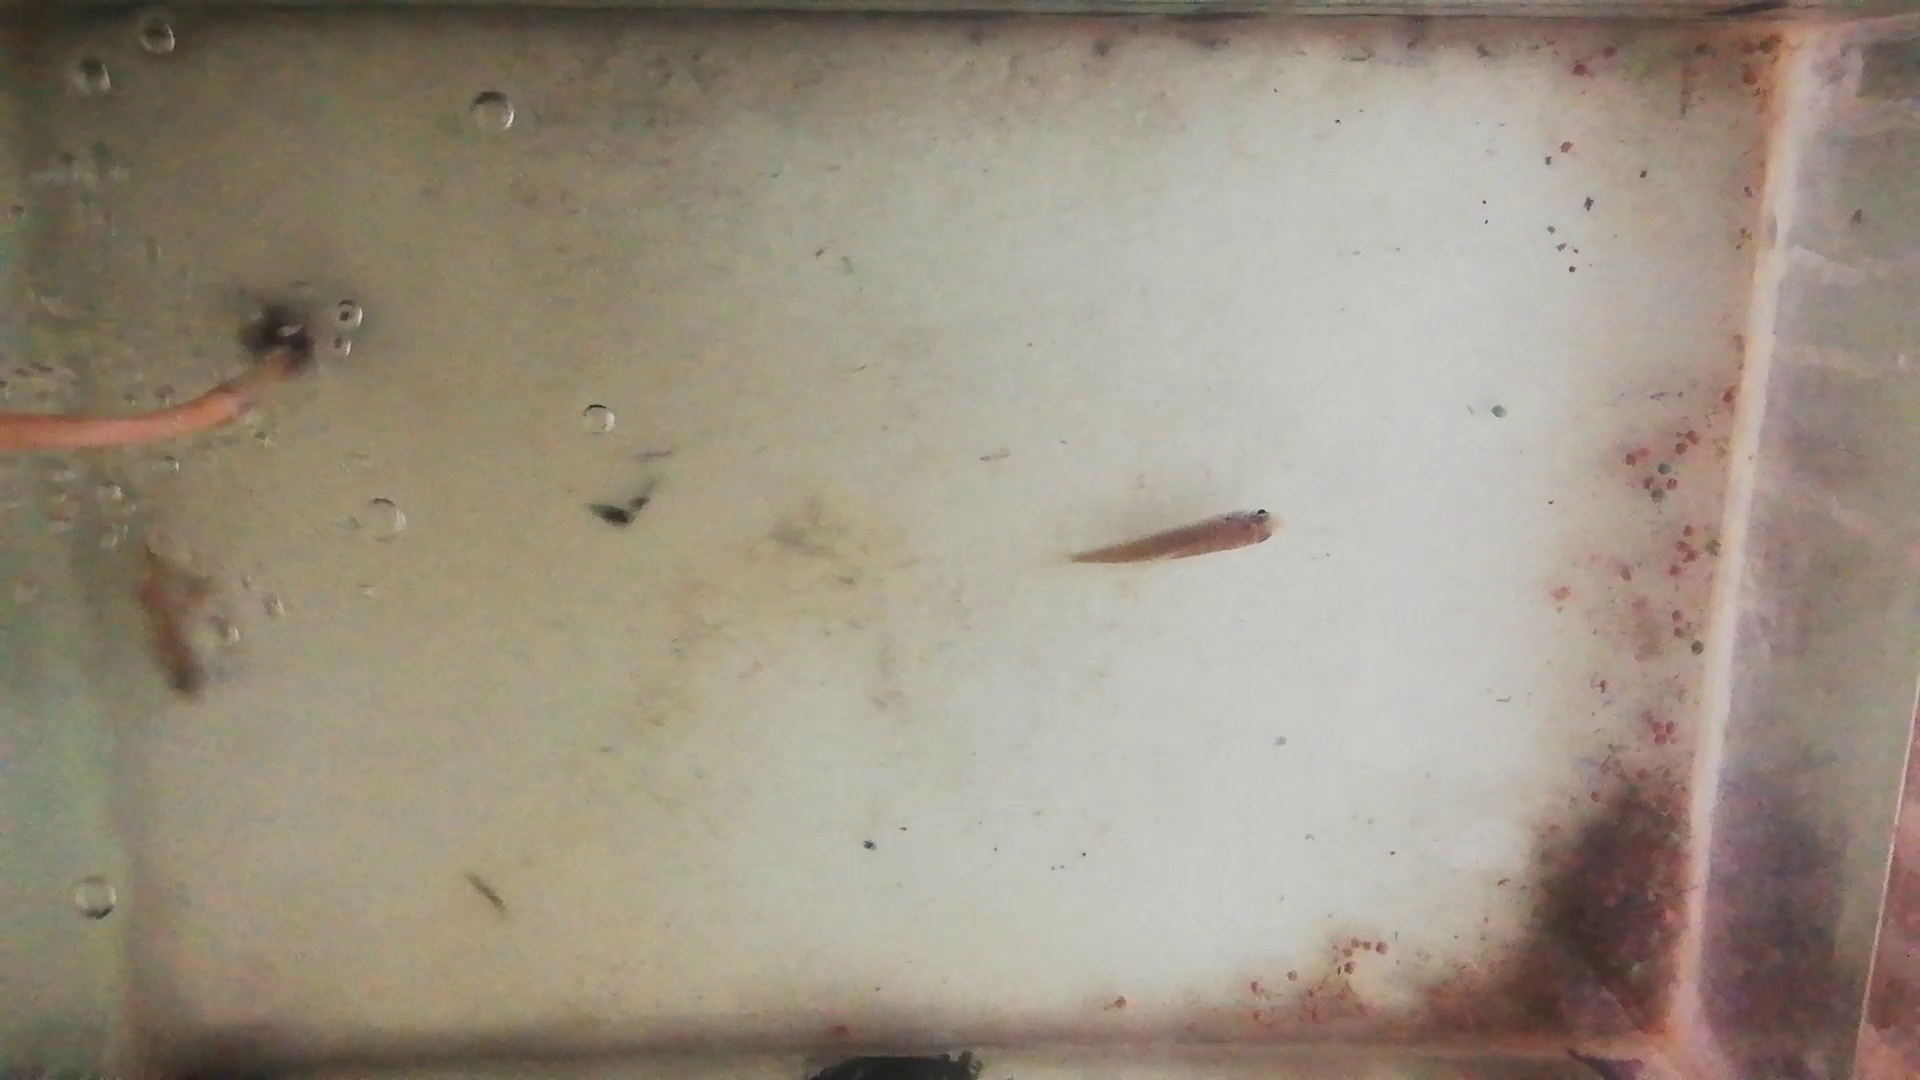fish: (127, 506, 214, 702), (1072, 506, 1284, 568)
